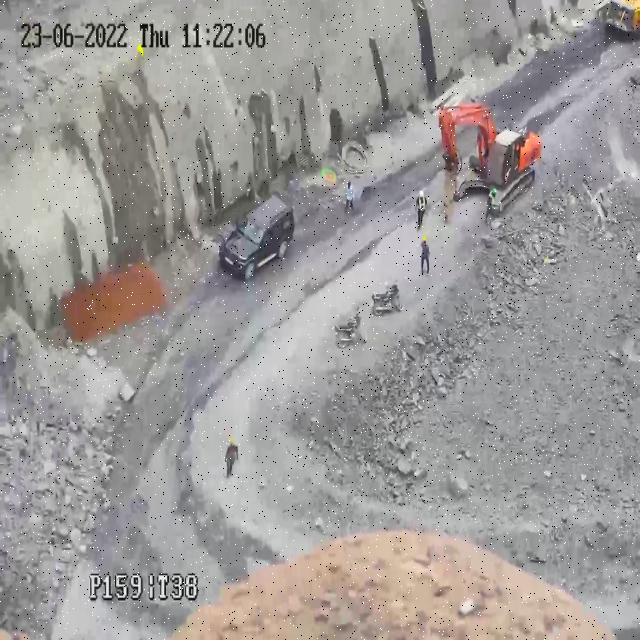Boots: (417, 224, 420, 232), (421, 269, 426, 273), (426, 270, 429, 276), (420, 223, 422, 228)
Helmet: (492, 188, 498, 194), (230, 437, 236, 443), (419, 190, 424, 197), (422, 236, 427, 241)
Mask: (418, 197, 426, 210), (488, 192, 493, 206)
